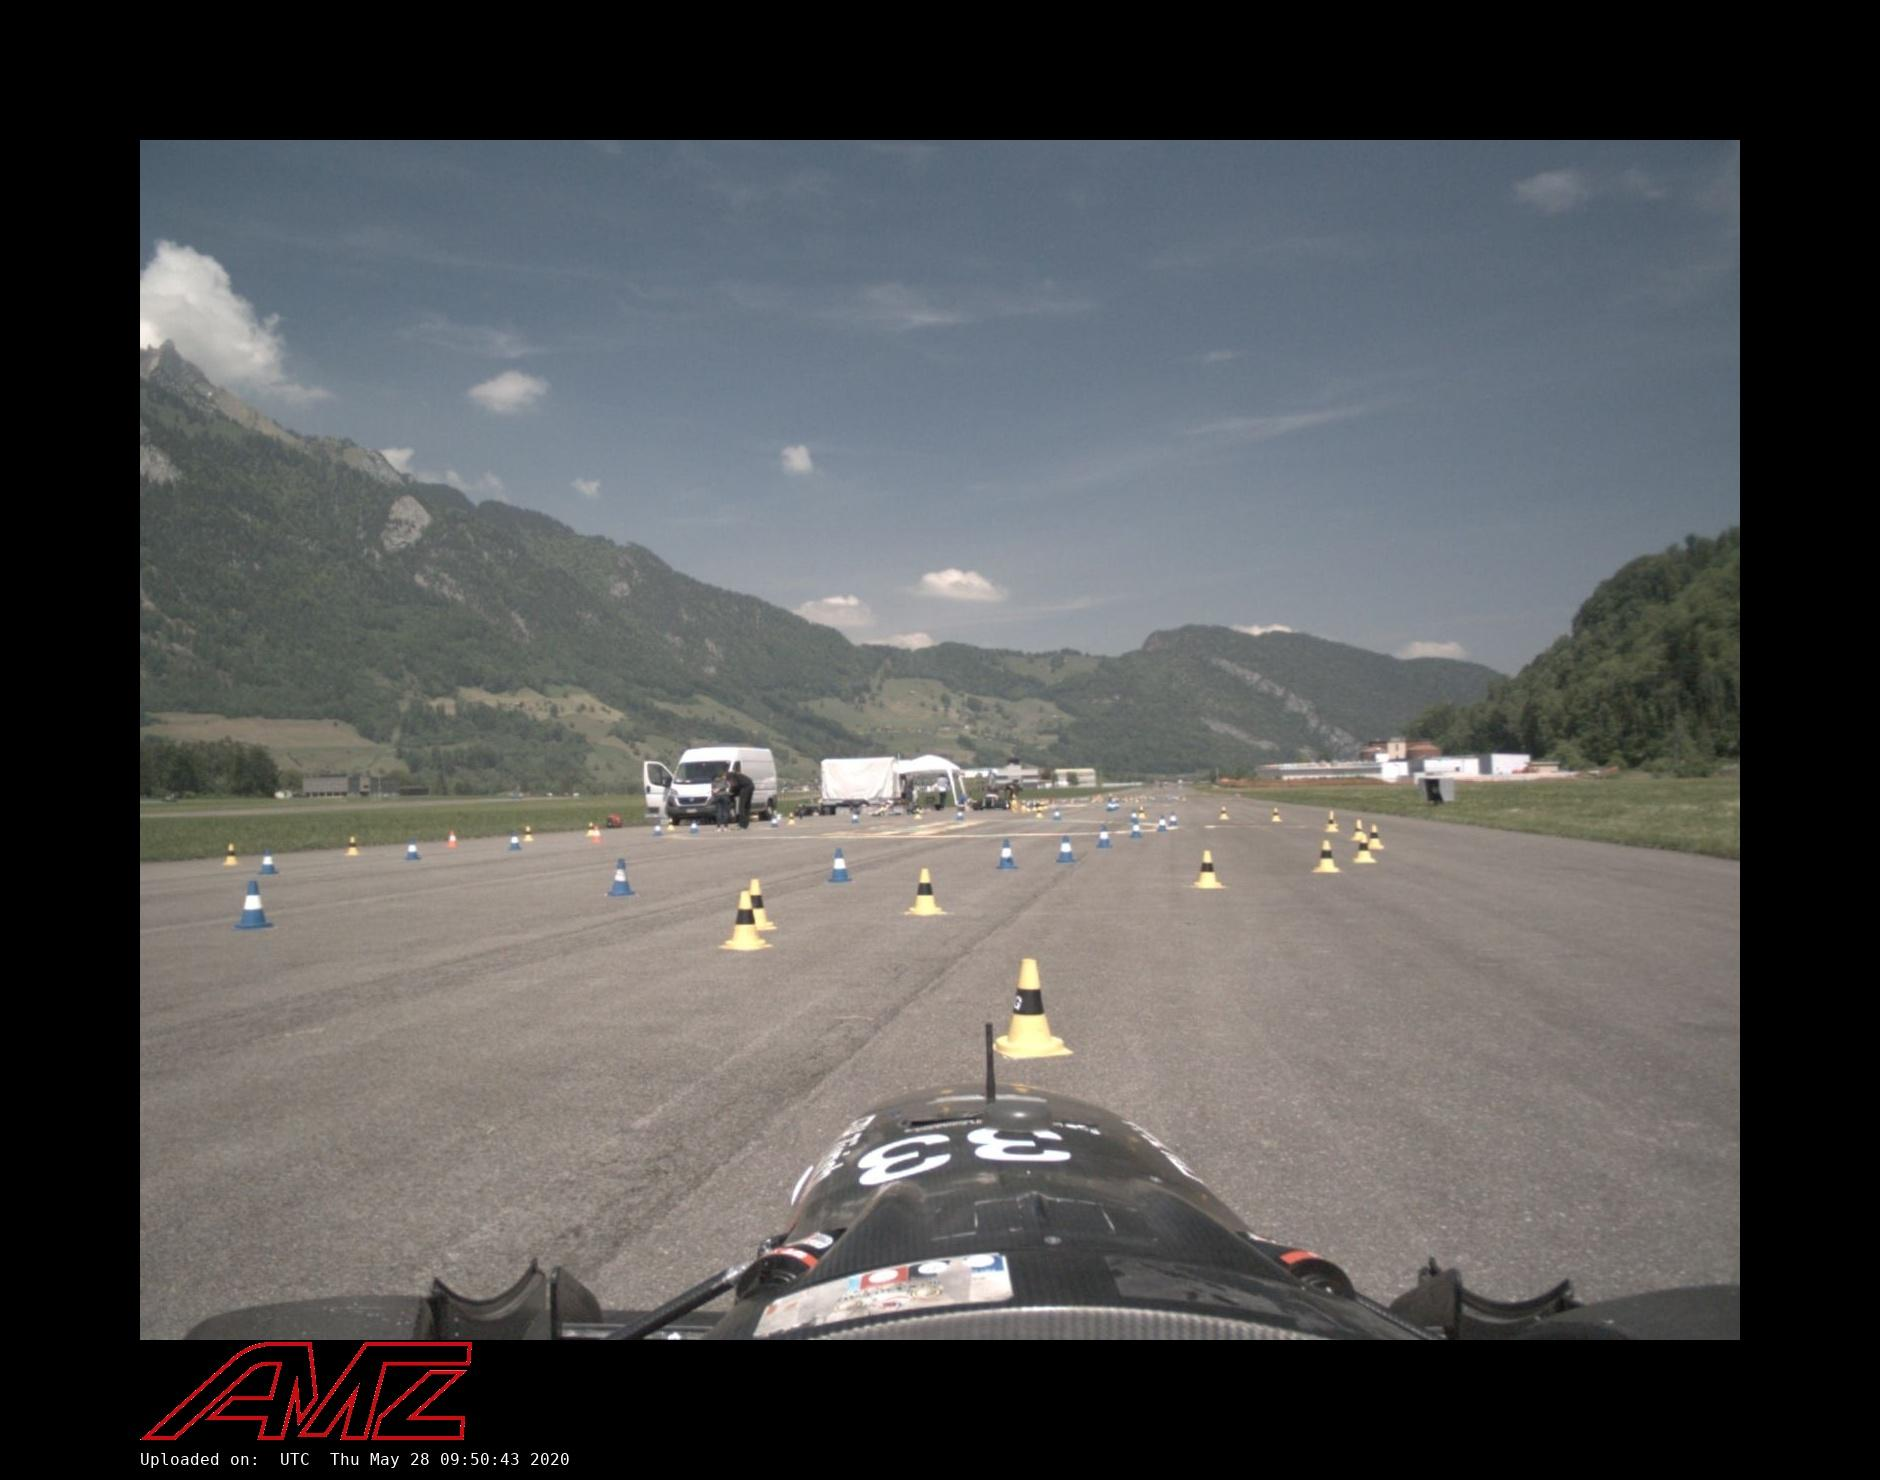blue_cone: (235, 880, 275, 931), (607, 857, 635, 896), (829, 847, 851, 883), (996, 839, 1016, 870), (258, 848, 279, 874), (1056, 836, 1076, 862), (1096, 825, 1112, 848), (404, 836, 420, 861), (508, 830, 520, 851), (1131, 819, 1143, 838), (1157, 815, 1167, 833), (1131, 809, 1140, 825), (653, 819, 662, 836), (1167, 812, 1178, 825), (850, 810, 861, 824), (690, 819, 699, 835), (955, 809, 964, 821), (1053, 809, 1062, 821), (1106, 798, 1114, 812), (771, 815, 778, 827), (1114, 798, 1122, 809), (1111, 800, 1117, 810)
orange_cone: (446, 830, 459, 848), (592, 825, 603, 844)
yellow_cone: (990, 960, 1073, 1060), (720, 891, 774, 951), (734, 879, 778, 931), (905, 870, 945, 915), (1192, 850, 1224, 890), (1312, 839, 1341, 873), (1354, 836, 1376, 864), (1366, 824, 1386, 848), (221, 844, 240, 867), (345, 836, 360, 856), (1352, 819, 1366, 841), (1325, 816, 1338, 833), (1325, 812, 1338, 825), (523, 825, 534, 842), (1271, 809, 1282, 822), (1218, 806, 1228, 819), (787, 812, 797, 825), (1138, 806, 1148, 818), (587, 822, 595, 836), (667, 818, 674, 830), (914, 807, 922, 819), (1036, 806, 1044, 818)
